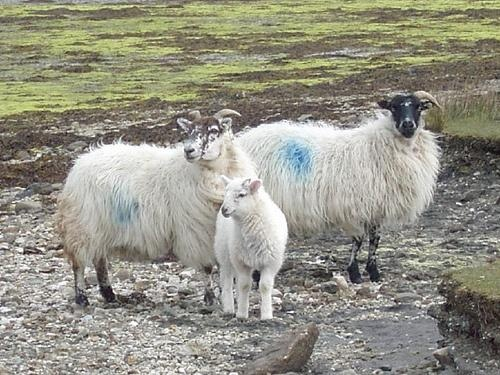sheep: (53, 107, 260, 311), (241, 86, 445, 286), (213, 173, 291, 325)
